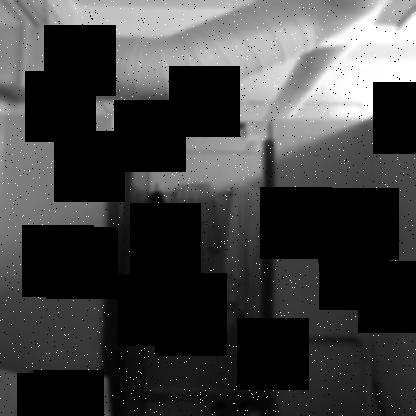Porte: (97, 134, 277, 415)
